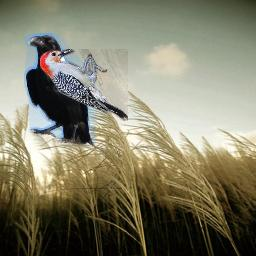Crow: (24, 33, 97, 149)
Woodpecker: (40, 49, 128, 121)
